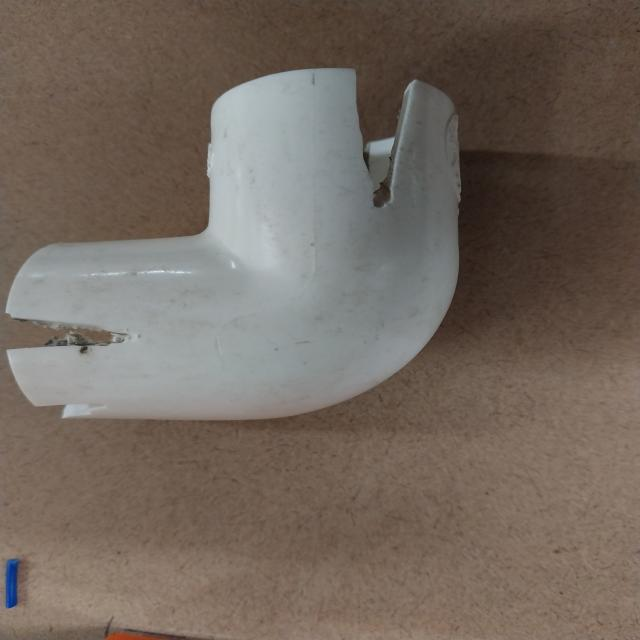Defective: (355, 65, 408, 203), (6, 317, 137, 352)
L Joint: (4, 68, 462, 424)
